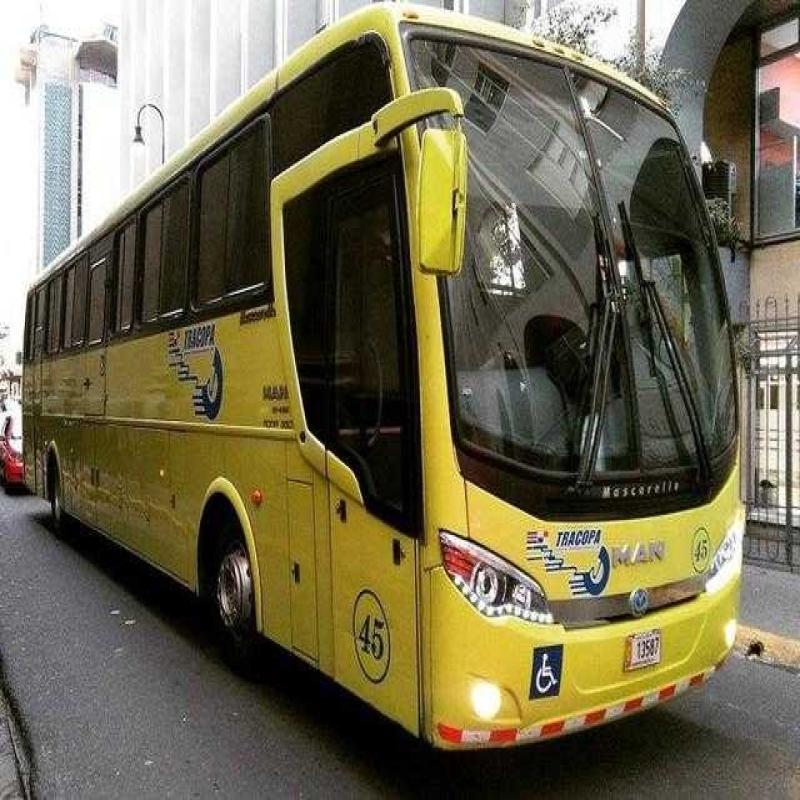bus: (22, 39, 770, 728)
